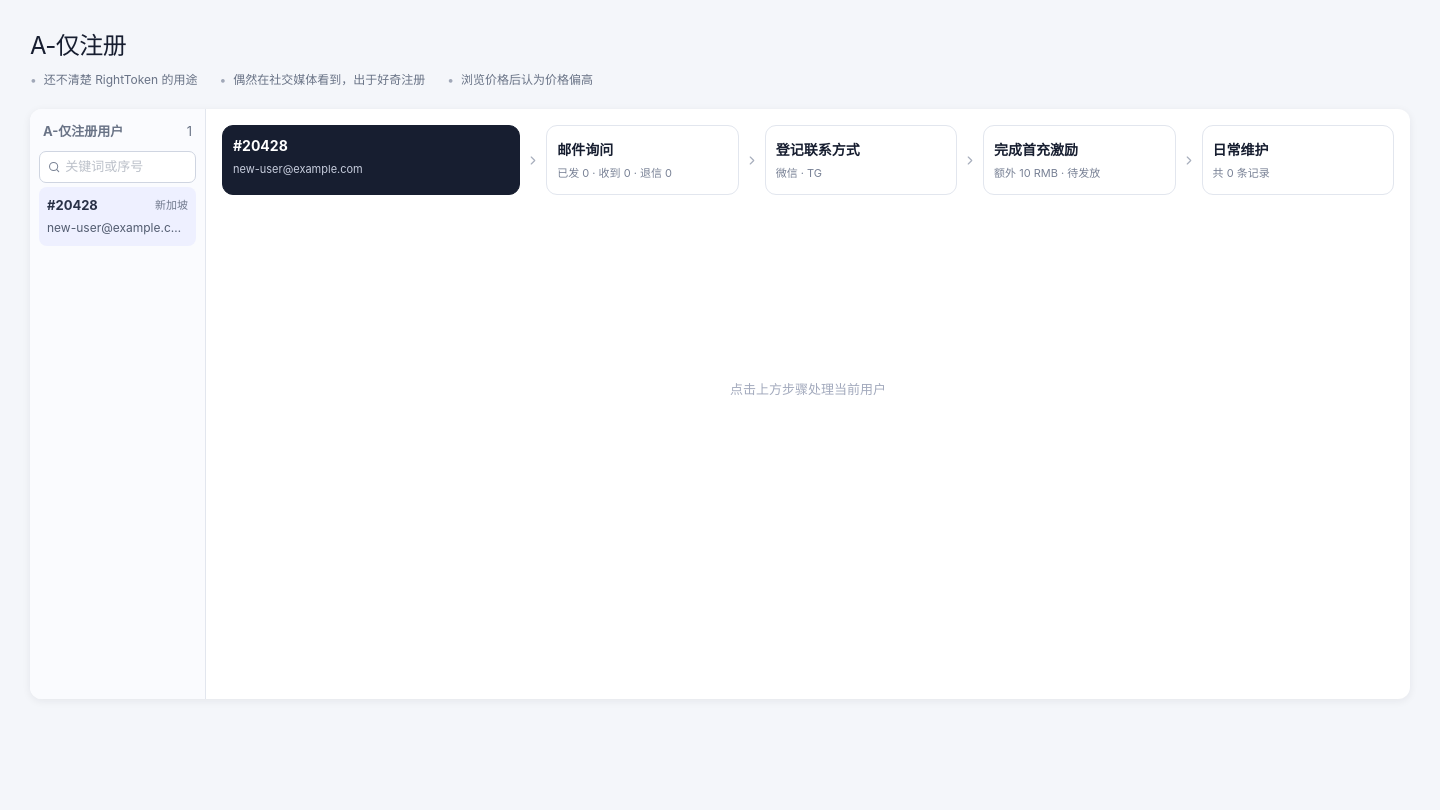
Test: AGroupWorkspace › defaults inline mail to knowledge sharing
Click the button "邮件询问 已发 0 · 收到 0 · 退信 0" at [642, 160], box [546,125,739,195]
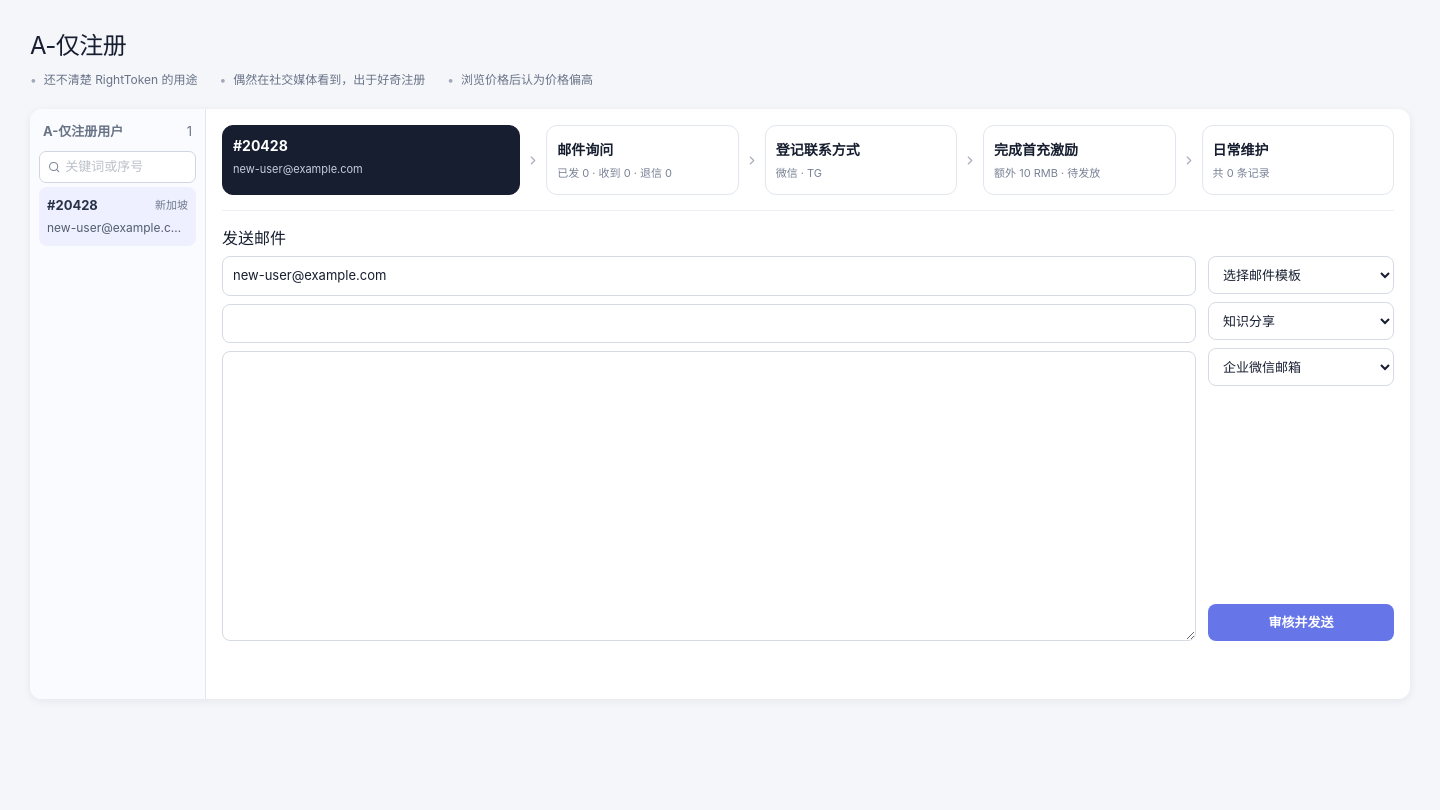
Now the dropdown named "邮件类型" shows "知识分享", box [1208,302,1394,340]
